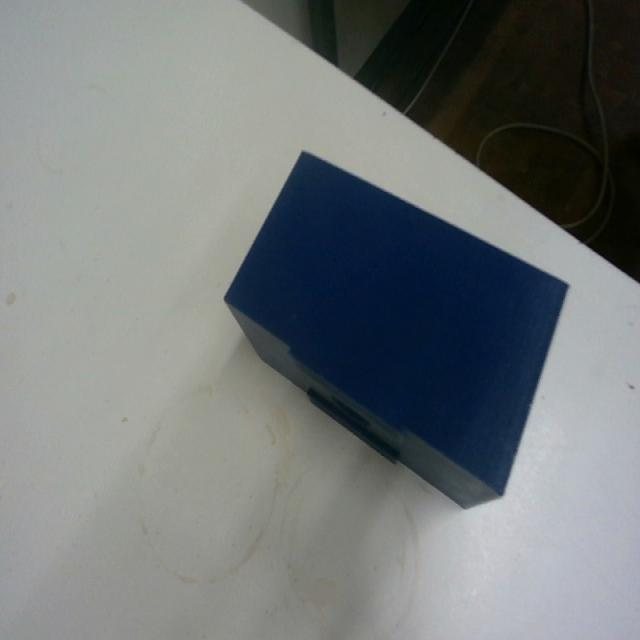Blue Cuboid: (221, 145, 571, 511)
